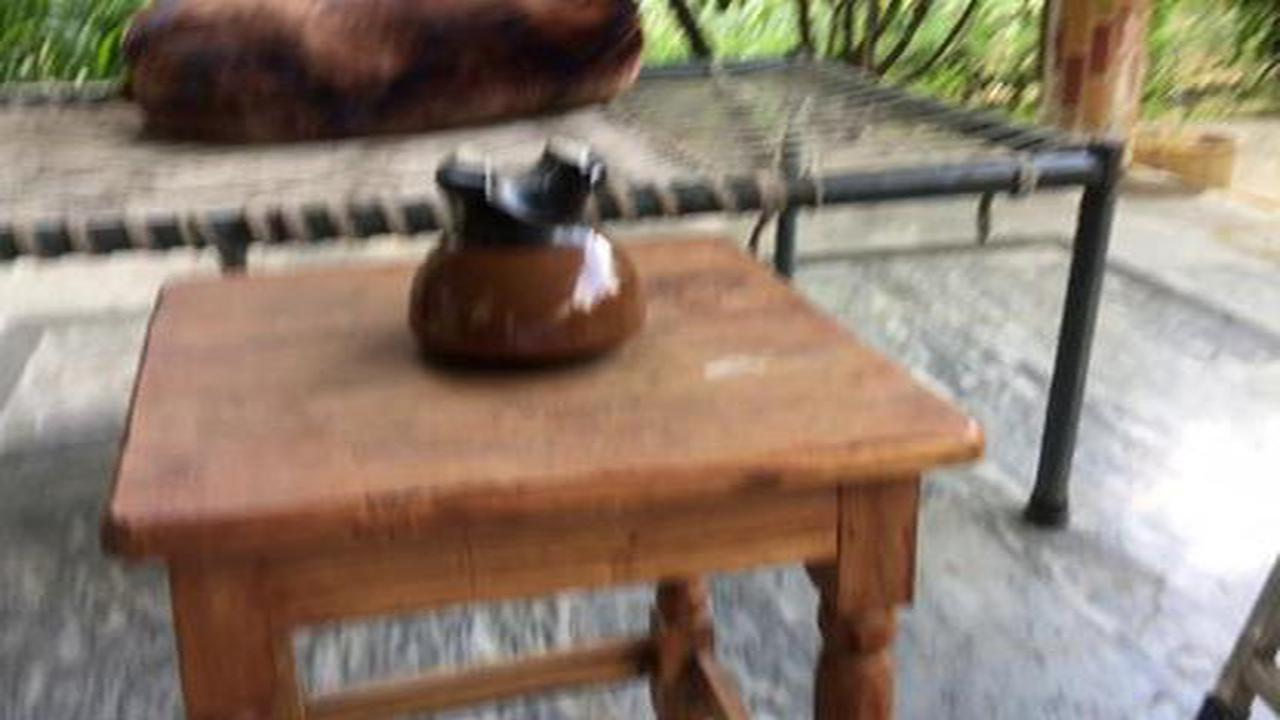insulator_pin: (391, 134, 671, 380)
